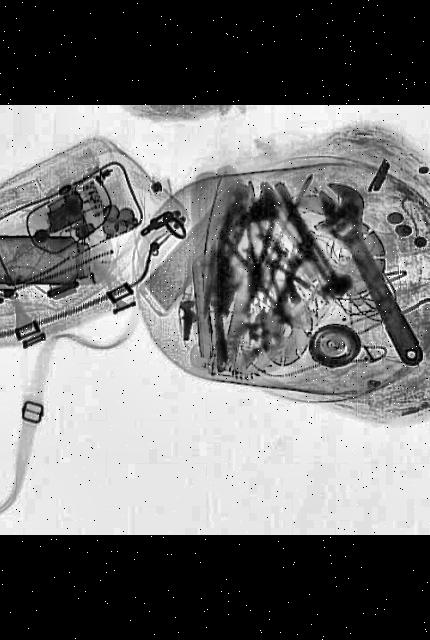Wrench: (296, 177, 430, 372)
